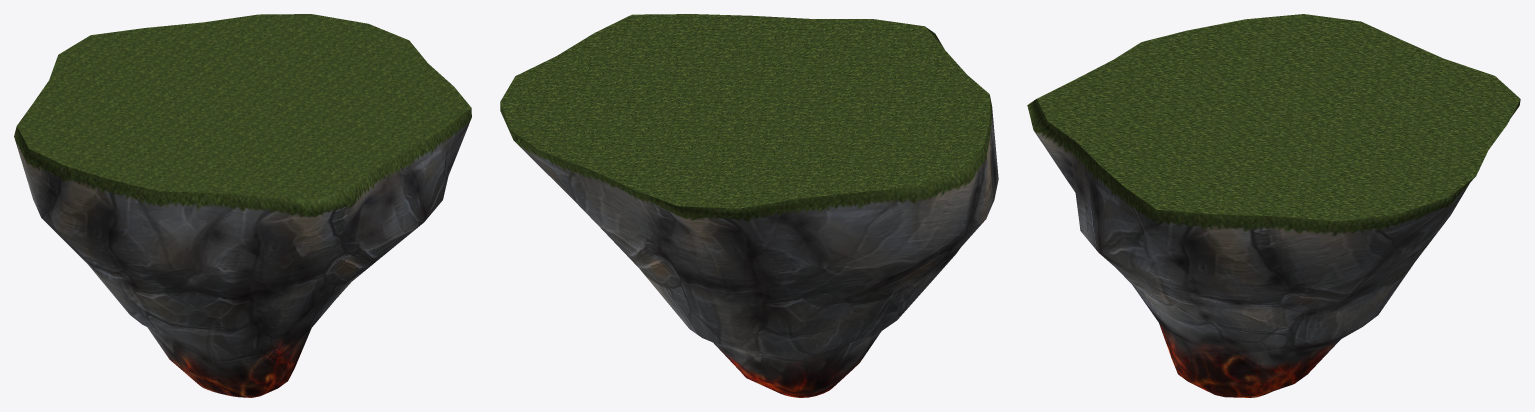
Rendered from Floating_Island_01.glb.
3 renders of one model, left to right at view 1: azimuth 30°, elevation 25°; view 2: azimuth 150°, elevation 25°; view 3: azimuth 270°, elevation 25°, orthographic. The views are drawn at different scales.
Size of the model in its own units: 68.32 by 43.75 by 68.01.
Materials: 1 (1 with a texture image).
